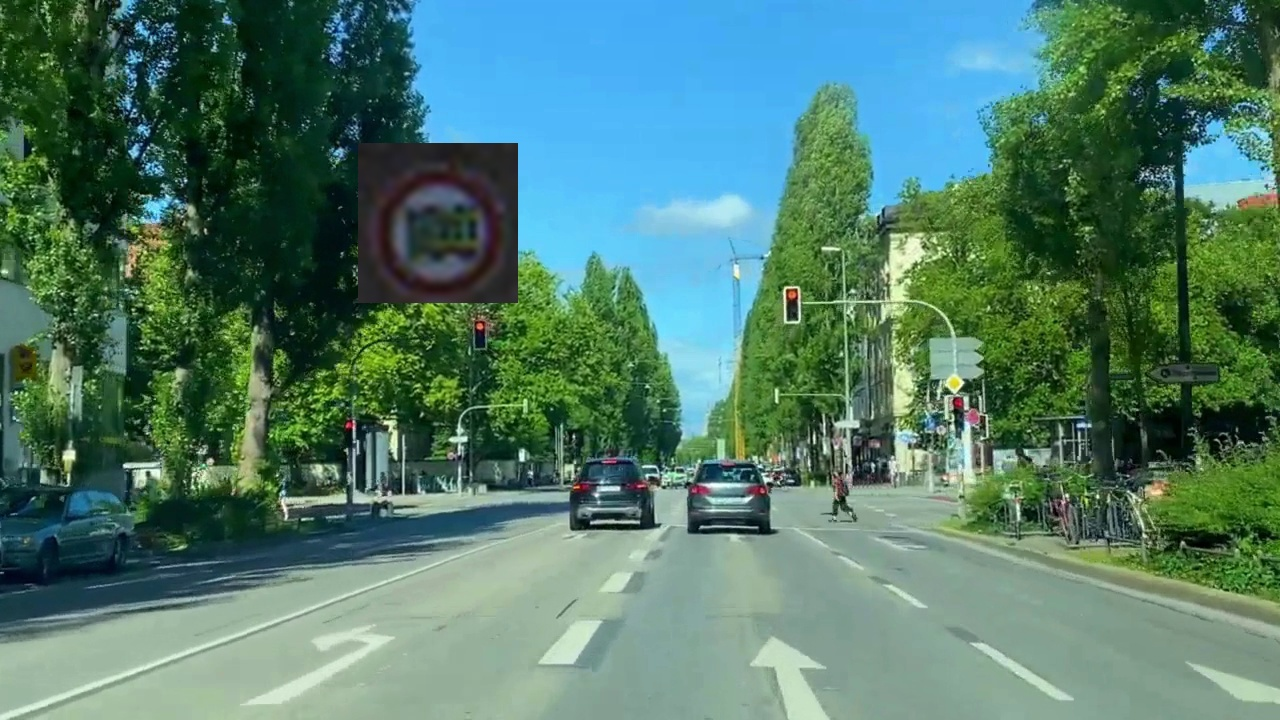Speed 100: (358, 143, 518, 303)
